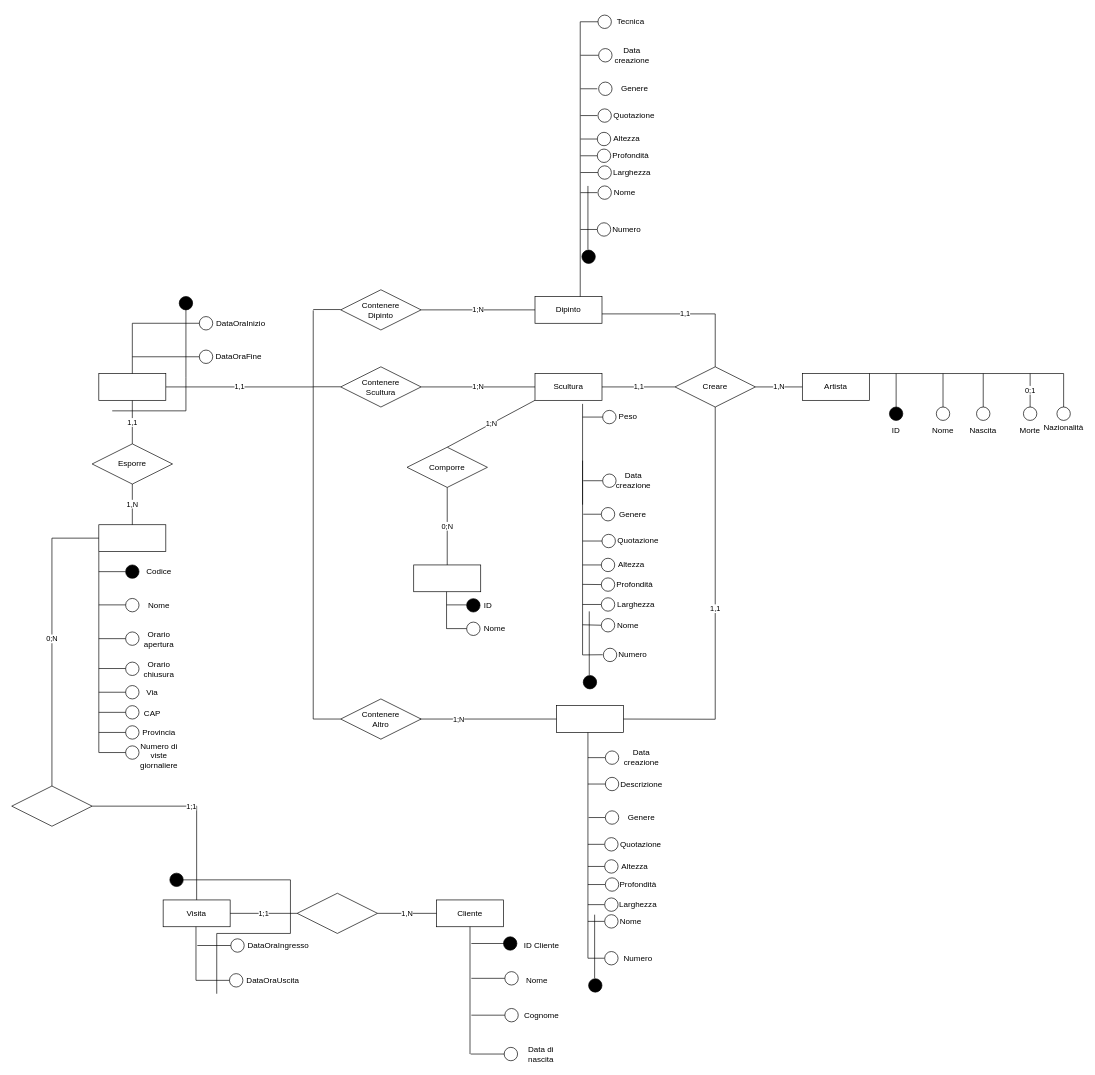
This 1095x1075 diagram has some shape labels left out. Each missing label, with the centre of its shape:
Altro: (589,718)
Effettuare: (51,805)
Materiale: (447,578)
Mostra: (132,386)
Museo: (132,538)
Svolgere: (337,913)
